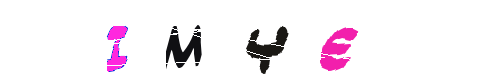E: (218, 0, 298, 80)
I: (152, 0, 232, 80)
M: (185, 0, 265, 80)
Y: (200, 0, 280, 80)
